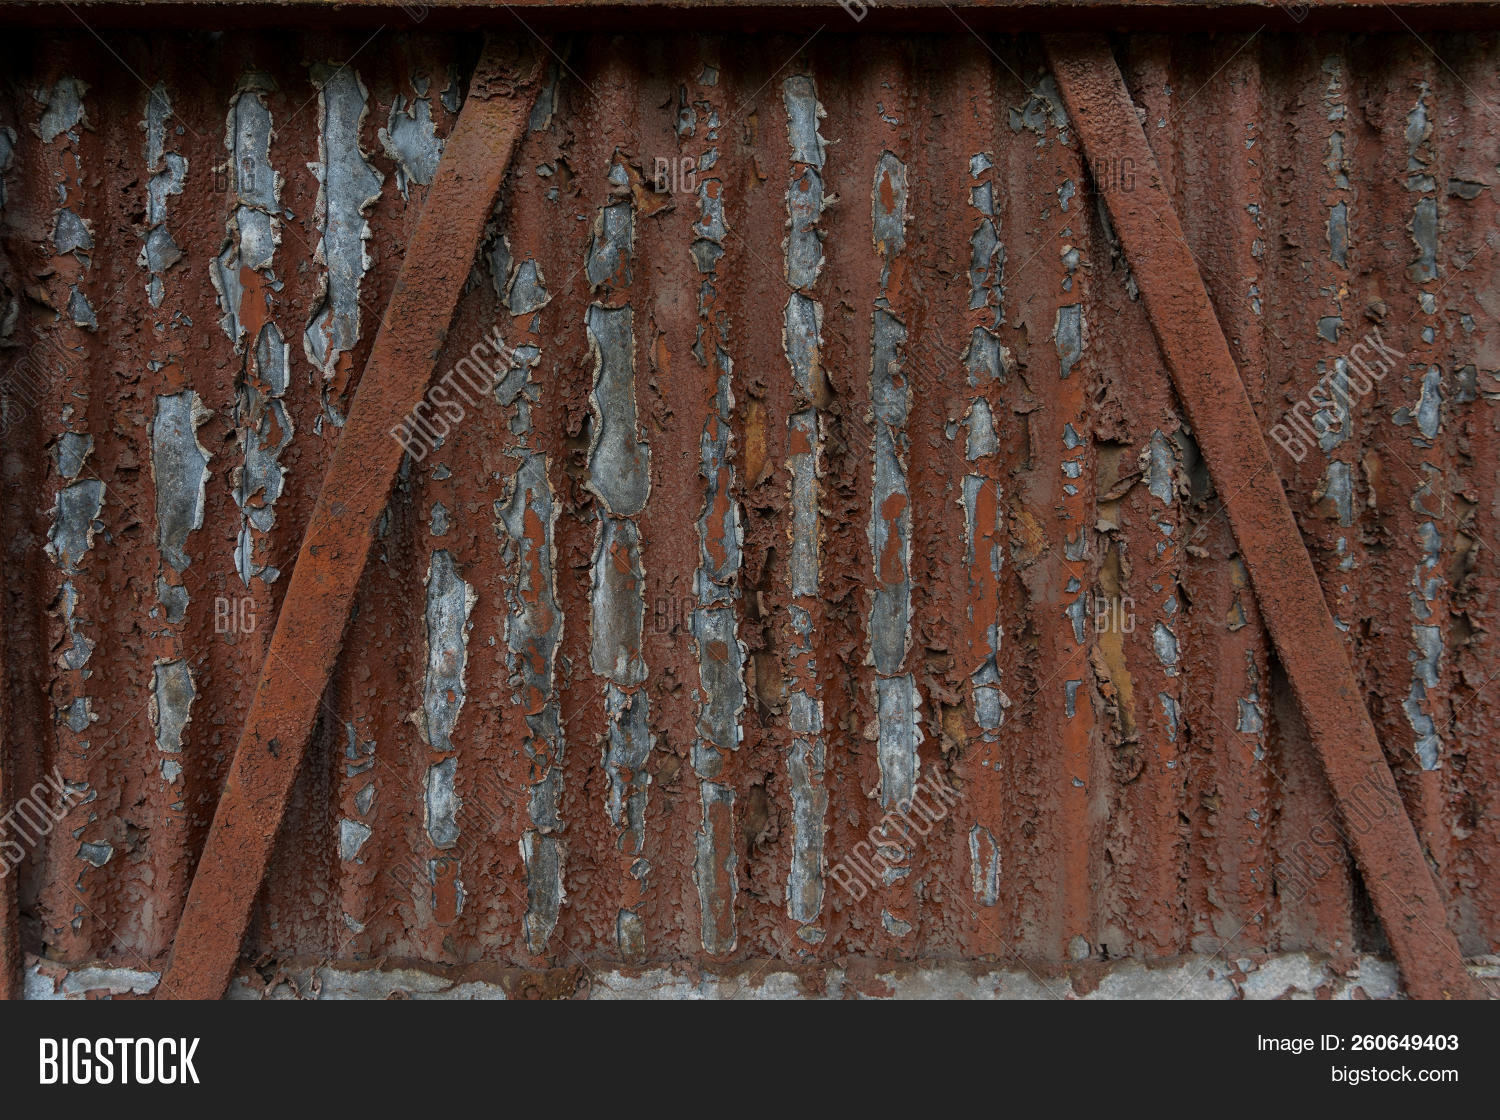rust: (22, 80, 1500, 1000)
